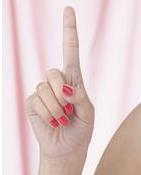up: (21, 3, 97, 154)
